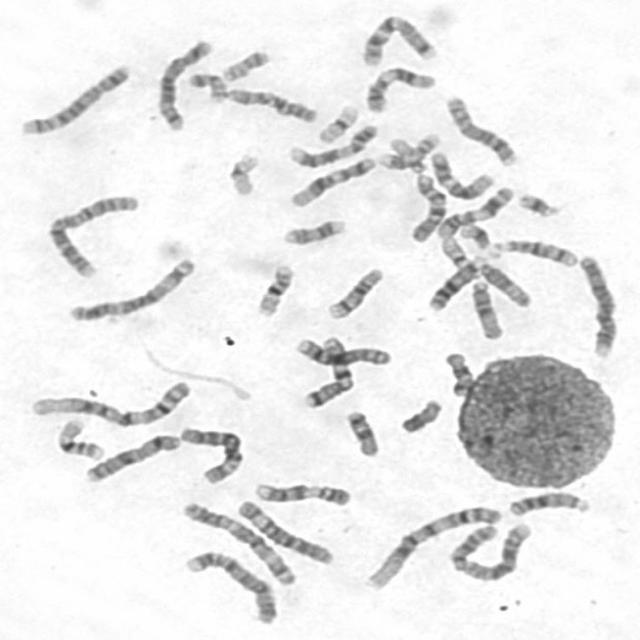A1: (358, 501, 505, 592), (26, 374, 193, 428)
A2: (41, 189, 142, 279), (444, 516, 534, 584)
A3: (176, 496, 299, 587), (63, 253, 198, 323)
B4: (178, 544, 279, 626), (572, 250, 620, 358)
B5: (15, 58, 133, 137), (150, 34, 215, 132)
C10: (218, 83, 319, 124), (404, 168, 449, 244)
C11: (431, 180, 516, 240), (359, 61, 437, 114)
C12: (283, 152, 377, 208), (424, 146, 496, 201)
C6: (230, 494, 335, 567), (174, 422, 245, 486)
C7: (356, 9, 440, 67), (295, 332, 355, 409)
C8: (440, 90, 520, 167), (289, 332, 394, 369)
C9: (283, 119, 379, 169), (248, 477, 354, 508)
D13: (422, 254, 483, 313), (503, 486, 593, 518)
D14: (321, 263, 385, 321), (484, 235, 580, 268)
D15: (468, 250, 534, 310), (465, 275, 506, 341)
E16: (50, 412, 106, 462), (250, 259, 296, 318)
E17: (373, 128, 442, 171), (276, 213, 348, 247)
E18: (339, 405, 382, 458), (438, 347, 476, 398)
F19: (311, 99, 361, 145), (222, 148, 261, 198)
F20: (216, 44, 273, 82), (182, 67, 228, 104)
G21: (512, 188, 562, 218), (455, 218, 494, 250)
G22: (384, 132, 428, 174), (436, 233, 474, 270)
X: (78, 428, 182, 484)
Y: (394, 394, 444, 435)
